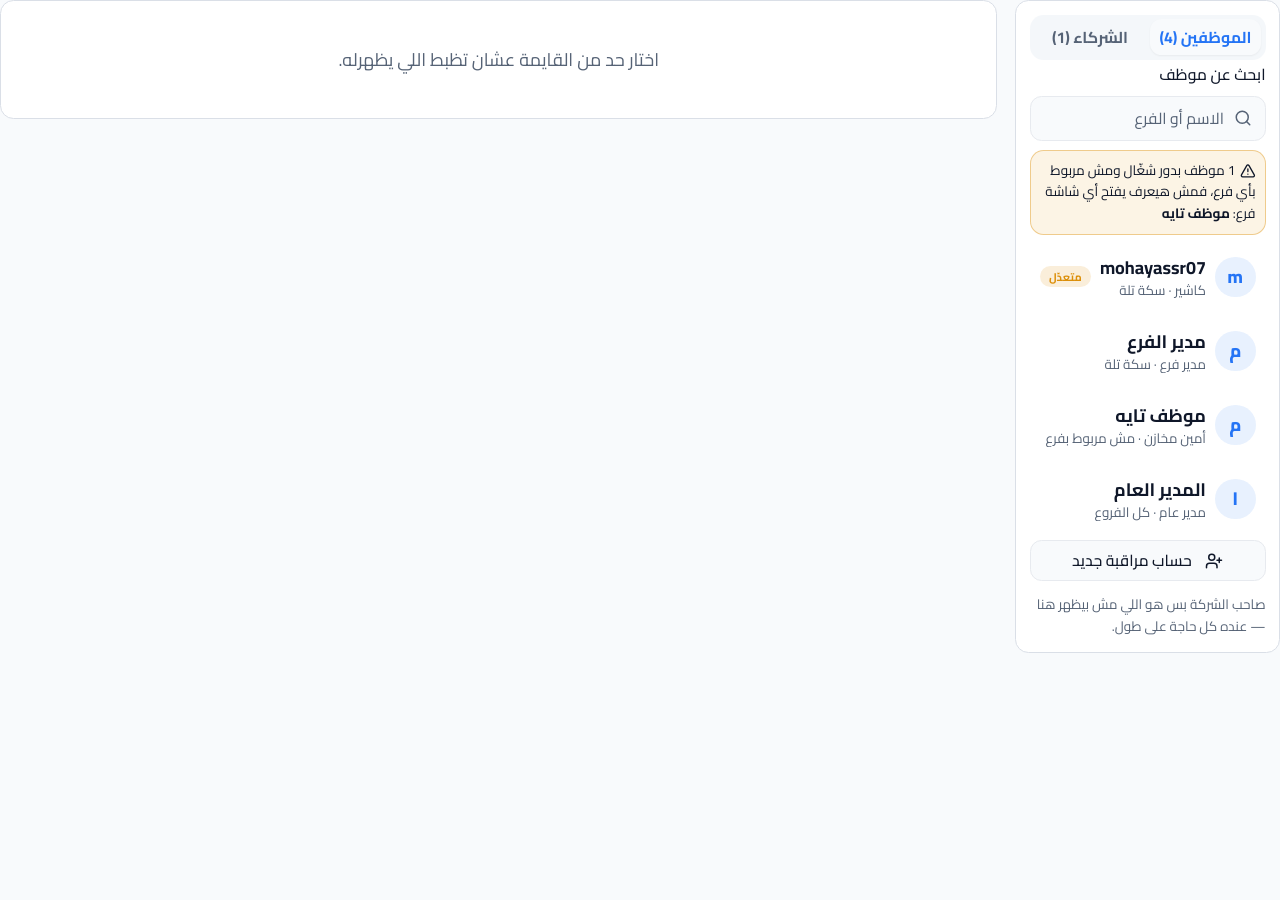
Test: Employees permissions screen › two tabs: employees and partners; a partner is view only
Expected: the button "الحاج ناصر" is not shown
What coordinates should you click on to do the following:
click the tab "الشركاء (1)"
I would click on:
 (1090, 37)
Its box is [1034,19,1145,55].
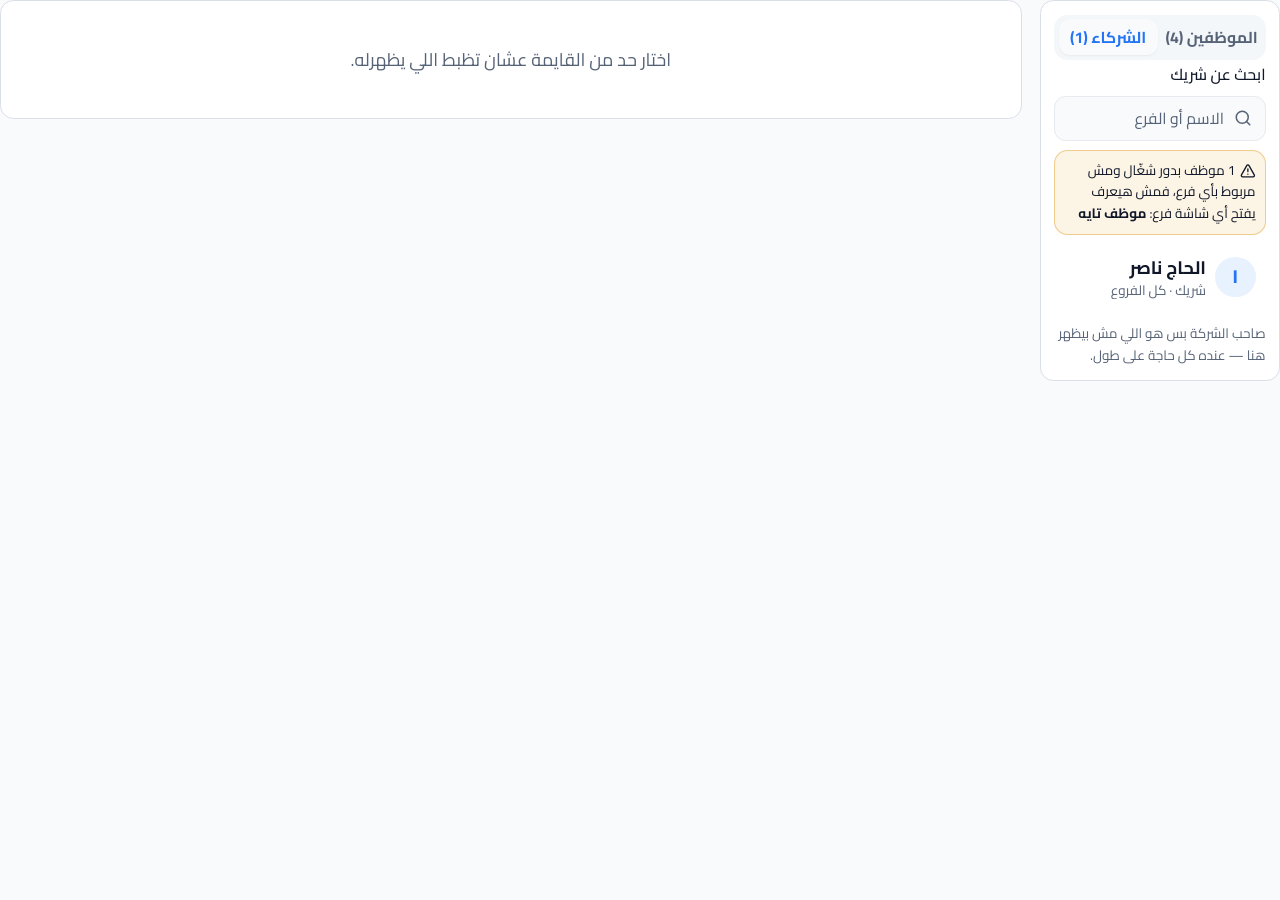
What coordinates should you click on to do the following:
click the button "ا الحاج ناصر شريك · كل الفروع"
I would click on:
 (1160, 277)
Its box is [1054,244,1266,309].
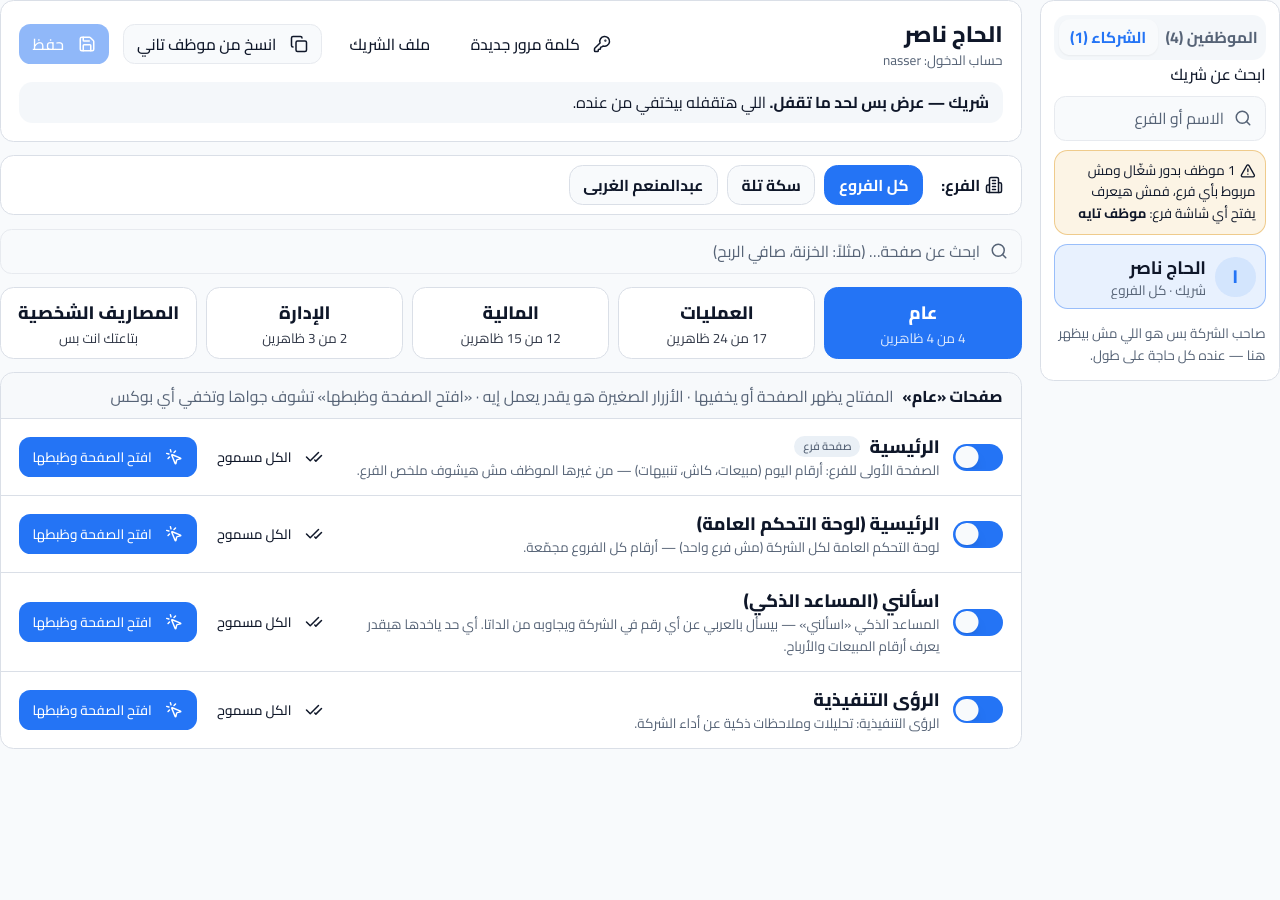
Expected: the button "mohayassr07" is not shown
What coordinates should you click on to do the following:
click the tab "العمليات 17 من 24 ظاهرين"
I would click on:
 (717, 323)
Its box is [618,287,816,359].
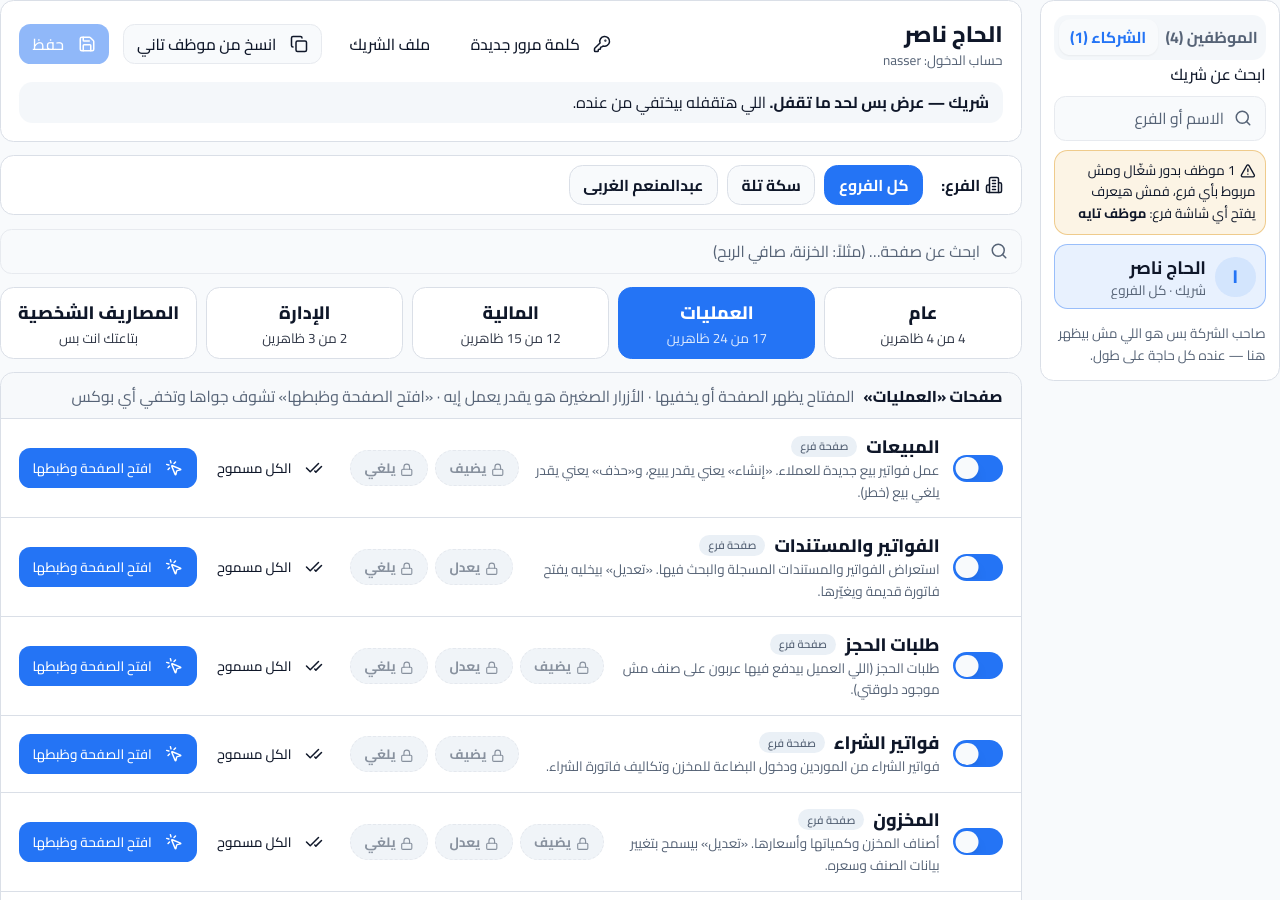
Now the button with aria-label "الشريك عرض بس" is disabled, box [435,450,519,486]
